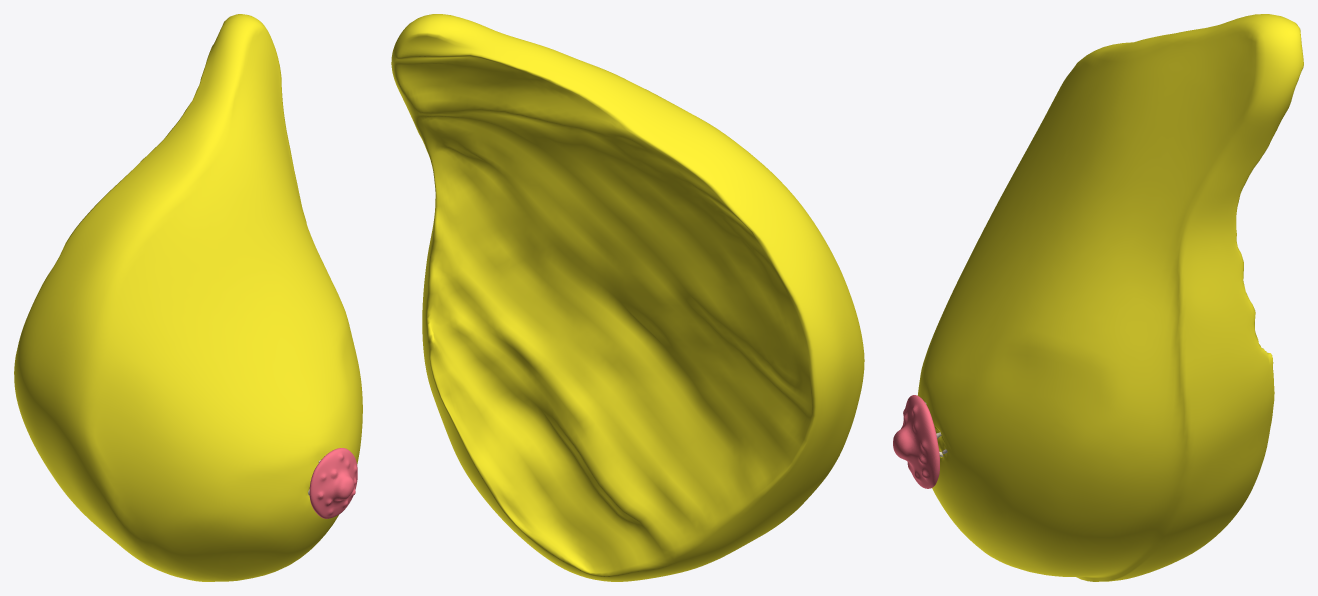
The model's file is density25.glb.
The picture shows the model from 3 angles, left to right: view 1: azimuth 30°, elevation 25°; view 2: azimuth 150°, elevation 25°; view 3: azimuth 270°, elevation 25°; orthographic projection. The views are drawn at different scales.
Visible parts, largest first — view 1: VH_F_fat_L, VH_F_areola_L; view 2: VH_F_fat_L; view 3: VH_F_fat_L, VH_F_areola_L, VH_F_nipple_L.
Boxes of the visible parts, left/top/right/bottom form: VH_F_fat_L: left=14, top=14, right=362, bottom=581; VH_F_areola_L: left=309, top=448, right=357, bottom=518; VH_F_fat_L: left=391, top=14, right=864, bottom=581; VH_F_fat_L: left=917, top=14, right=1303, bottom=581; VH_F_areola_L: left=901, top=395, right=939, bottom=488; VH_F_nipple_L: left=893, top=427, right=913, bottom=464.
Bounding box in the file's own units: 0.1282 × 0.1819 × 0.1119.
